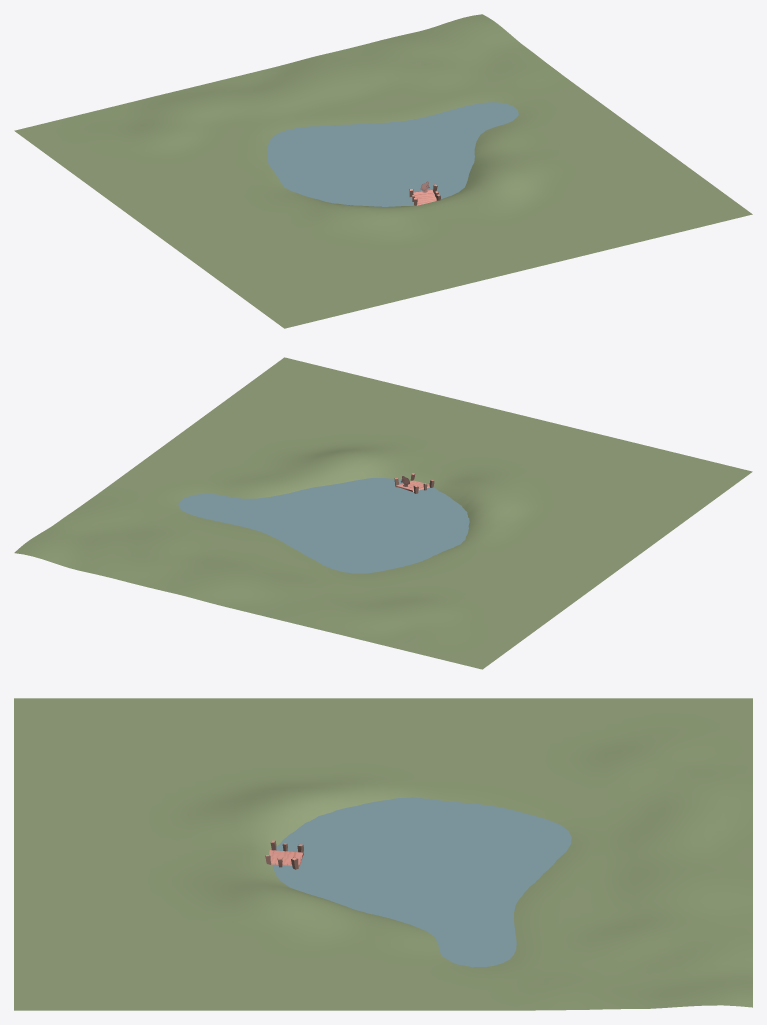
The model's file is scene_Lake_.fbx.
3 views of the same model, one above another, from view 1: azimuth 30°, elevation 25°; view 2: azimuth 150°, elevation 25°; view 3: azimuth 270°, elevation 25° (orthographic). The views are drawn at different scales.
Visible parts, largest first — view 1: sm_landscape, sm_water; view 2: sm_landscape, sm_water; view 3: sm_landscape, sm_water, sm_room2.
Part boxes in pixels (<box>): sm_landscape: <box>14,14,752,328</box>; sm_water: <box>267,102,518,206</box>; sm_landscape: <box>14,357,752,669</box>; sm_water: <box>178,478,469,573</box>; sm_landscape: <box>14,698,752,1010</box>; sm_water: <box>273,797,571,967</box>; sm_room2: <box>265,840,303,869</box>.
Size of what is drawn, in the model's own units: 97.88 by 9.81 by 97.88.
Materials: 5 (3 with a texture image).
